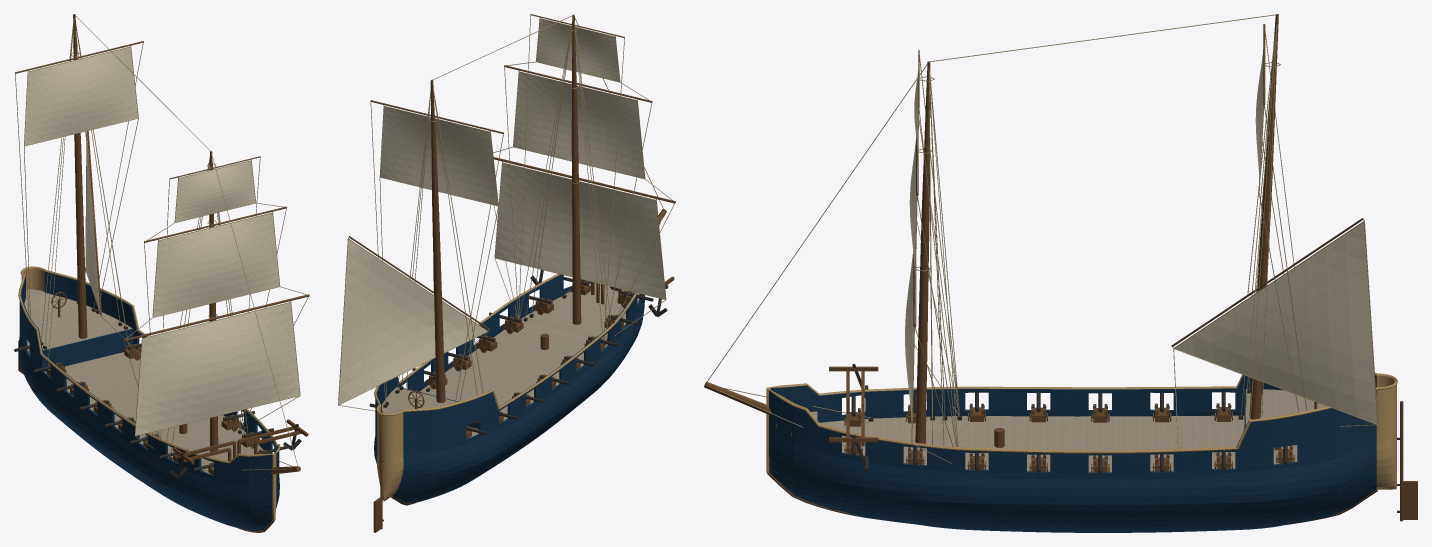
3 renders of one model, left to right at view 1: azimuth 30°, elevation 25°; view 2: azimuth 150°, elevation 25°; view 3: azimuth 270°, elevation 25°, orthographic. The views are drawn at different scales.
Parts seen in each view (by area): view 1: lod2_fore_square_00, lod2_hull_shell_starboard, lod2_fore_square_01, lod2_main_square_00, lod2_main_deck, lod2_fore_square_02, lod2_castle_deck_0, lod2_hull_shell_port, lod2_main, lod2_castle_bulkhead_0_1, lod2_main_lateen_01, lod2_gunwale_starboard (+7 smaller); view 2: lod2_fore_square_00, lod2_hull_shell_starboard, lod2_main_lateen_01, lod2_fore_square_01, lod2_main_deck, lod2_main_square_00, lod2_fore_square_02, lod2_hull_shell_port, lod2_main, lod2_fore, lod2_stern_closure, lod2_castle_deck_0 (+2 smaller); view 3: lod2_hull_shell_port, lod2_main_lateen_01, lod2_main_deck, lod2_hull_shell_starboard, lod2_fore, lod2_main, lod2_stern_closure, lod2_gunwale_port, lod2_castle_deck_0, lod2_gunwale_starboard, lod2_fore_square_00.
Boxes of the visible parts, x1,y1,x2,y2 form: lod2_fore_square_00: [135, 302, 299, 435]; lod2_hull_shell_starboard: [18, 276, 272, 530]; lod2_fore_square_01: [153, 213, 279, 317]; lod2_main_square_00: [24, 47, 138, 145]; lod2_main_deck: [27, 340, 262, 473]; lod2_fore_square_02: [175, 161, 255, 222]; lod2_castle_deck_0: [24, 289, 132, 350]; lod2_hull_shell_port: [44, 271, 279, 508]; lod2_main: [73, 14, 87, 338]; lod2_castle_bulkhead_0_1: [42, 328, 133, 371]; lod2_main_lateen_01: [85, 131, 100, 312]; lod2_gunwale_starboard: [18, 275, 272, 463]; lod2_fore_square_00: [495, 163, 665, 299]; lod2_hull_shell_starboard: [392, 292, 644, 503]; lod2_main_lateen_01: [338, 239, 487, 404]; lod2_fore_square_01: [513, 72, 644, 178]; lod2_main_deck: [383, 283, 639, 459]; lod2_main_square_00: [380, 106, 498, 205]; lod2_fore_square_02: [536, 19, 619, 81]; lod2_hull_shell_port: [374, 274, 590, 463]; lod2_main: [430, 80, 445, 402]; lod2_fore: [571, 14, 581, 324]; lod2_stern_closure: [377, 406, 403, 501]; lod2_castle_deck_0: [382, 387, 457, 437]; lod2_hull_shell_port: [769, 390, 1376, 532]; lod2_main_lateen_01: [1175, 222, 1377, 423]; lod2_main_deck: [819, 415, 1297, 472]; lod2_hull_shell_starboard: [770, 375, 1376, 422]; lod2_fore: [915, 61, 930, 443]; lod2_main: [1249, 14, 1278, 419]; lod2_stern_closure: [1376, 375, 1396, 489]; lod2_gunwale_port: [768, 387, 1377, 453]; lod2_castle_deck_0: [1246, 389, 1326, 425]; lod2_gunwale_starboard: [768, 372, 1376, 395]; lod2_fore_square_00: [905, 251, 913, 427].
Bounding box in the file's own units: 11.68 × 24.4 × 30.52.
7 materials, 7 textured.
